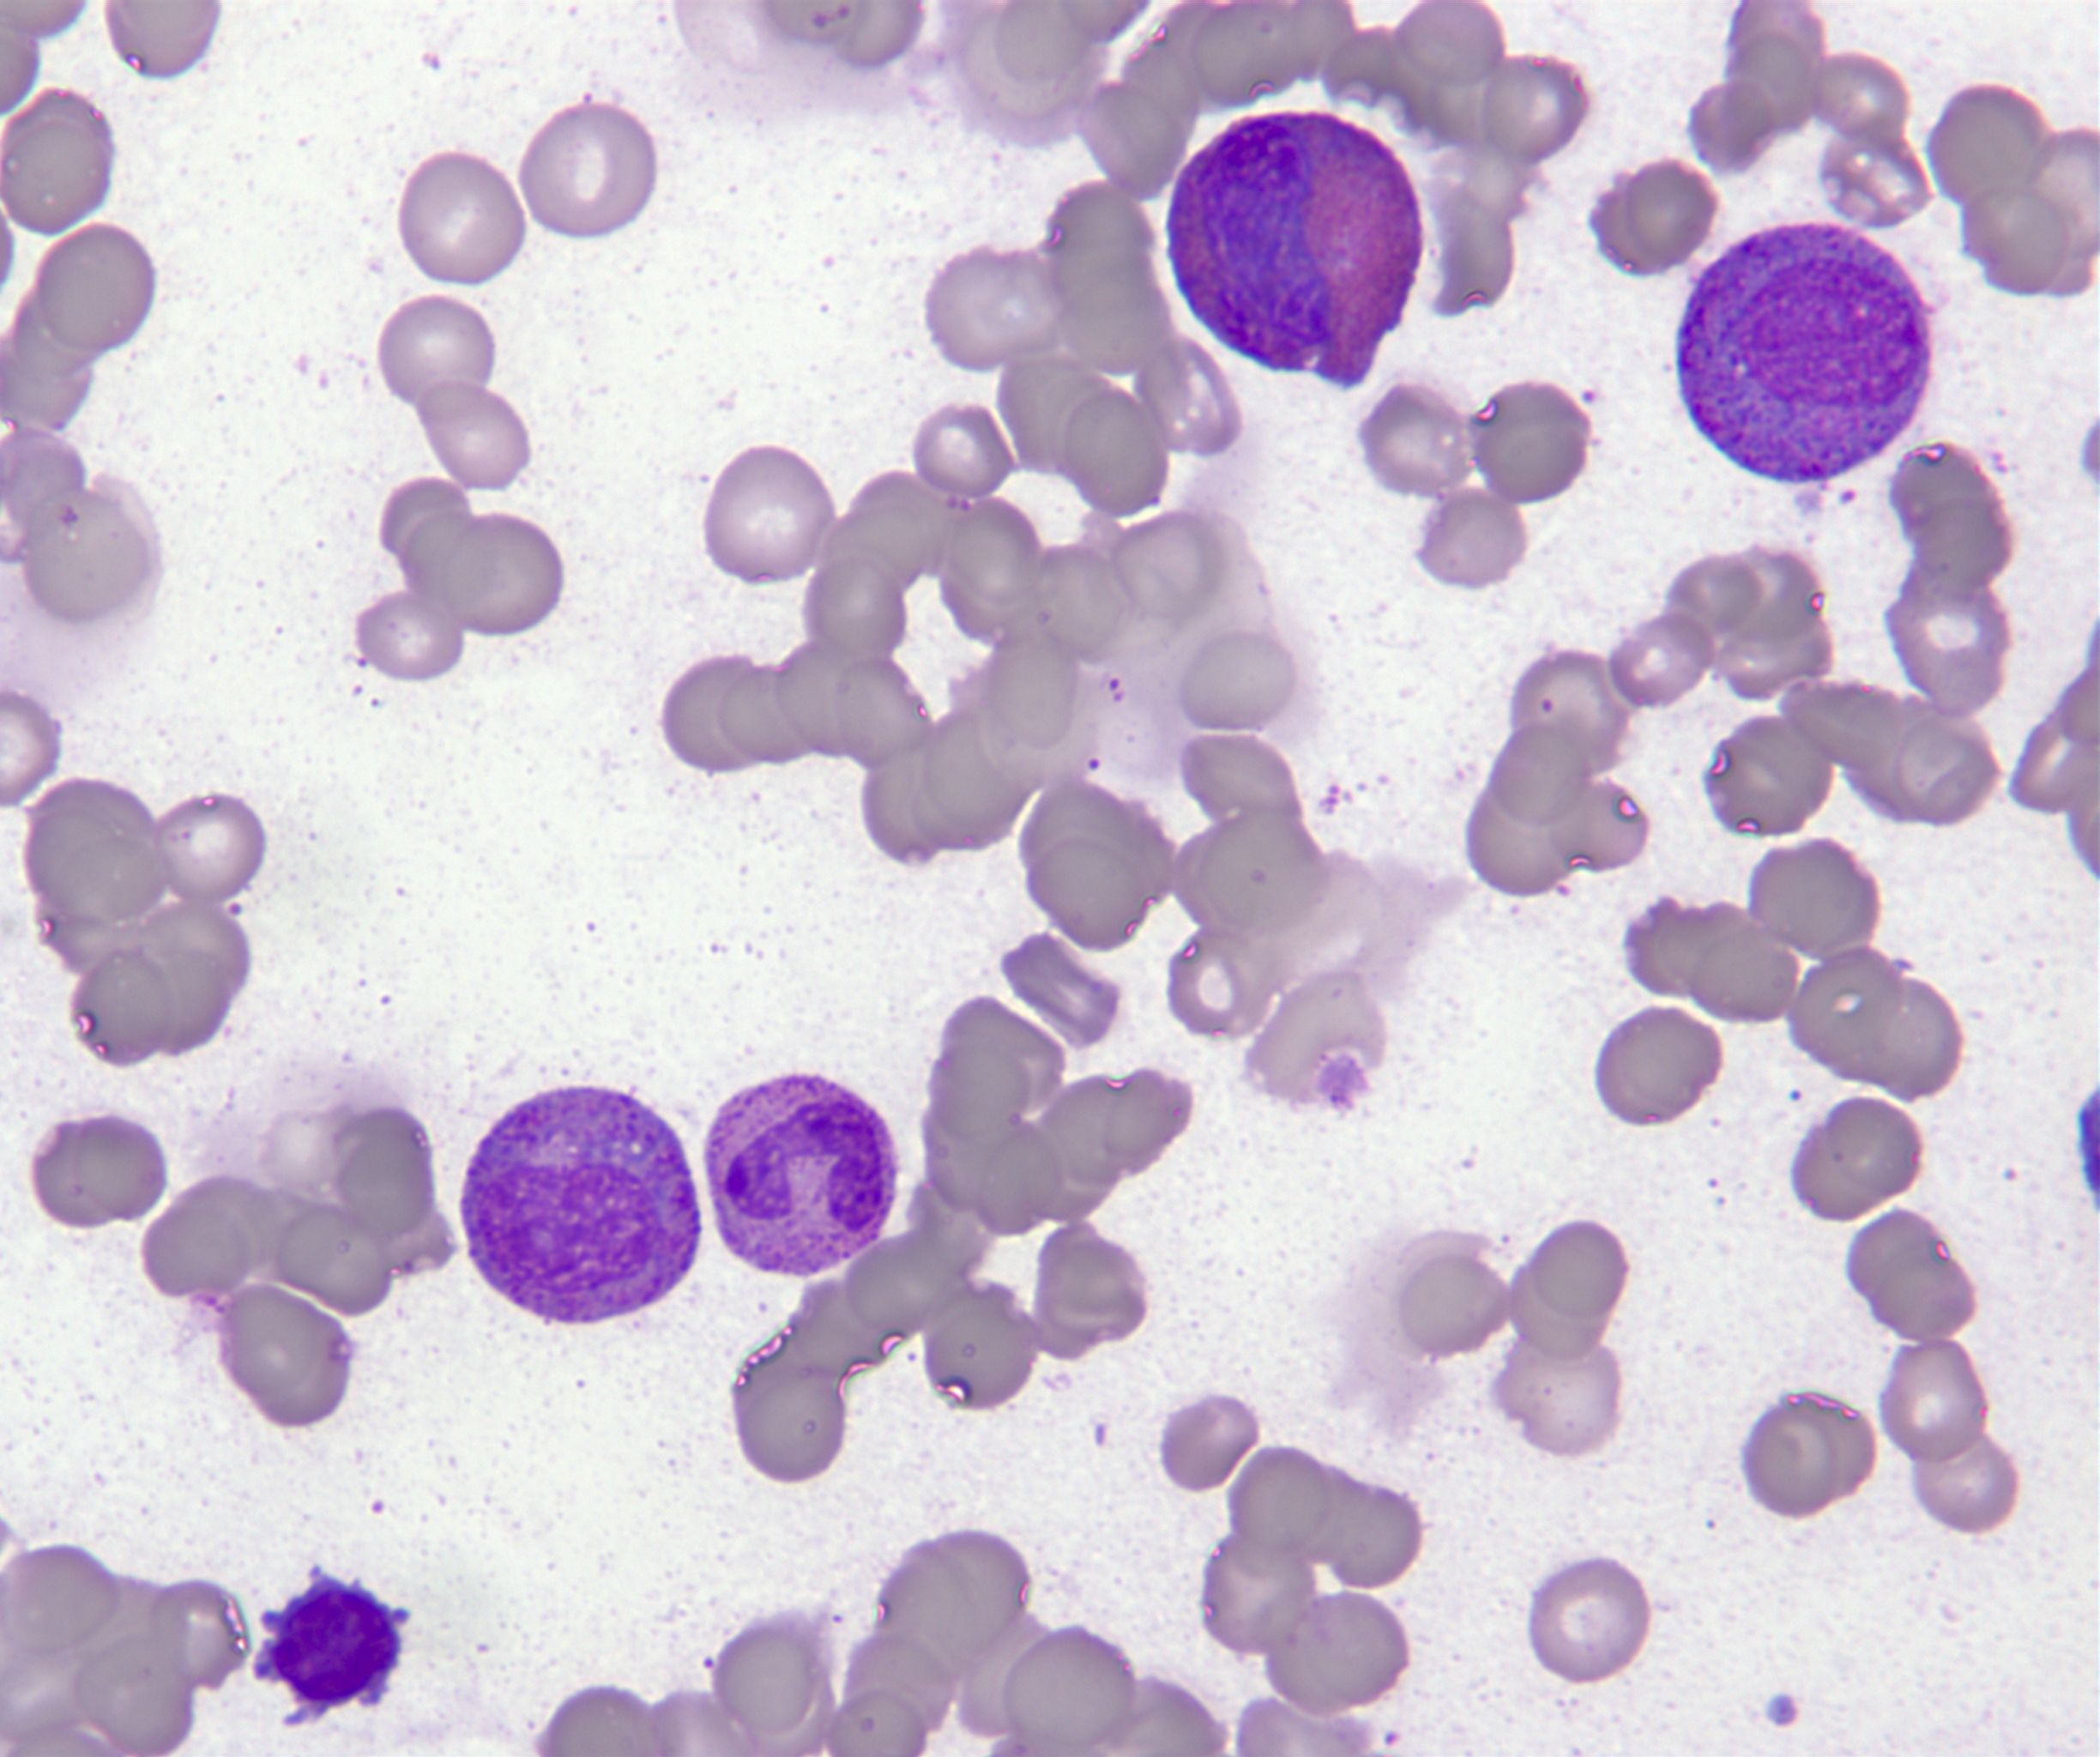3: (1680, 223, 1929, 483), (462, 1089, 698, 1323)
32: (253, 1567, 412, 1729)
5: (708, 1075, 897, 1277)
E2: (1167, 110, 1418, 394)
